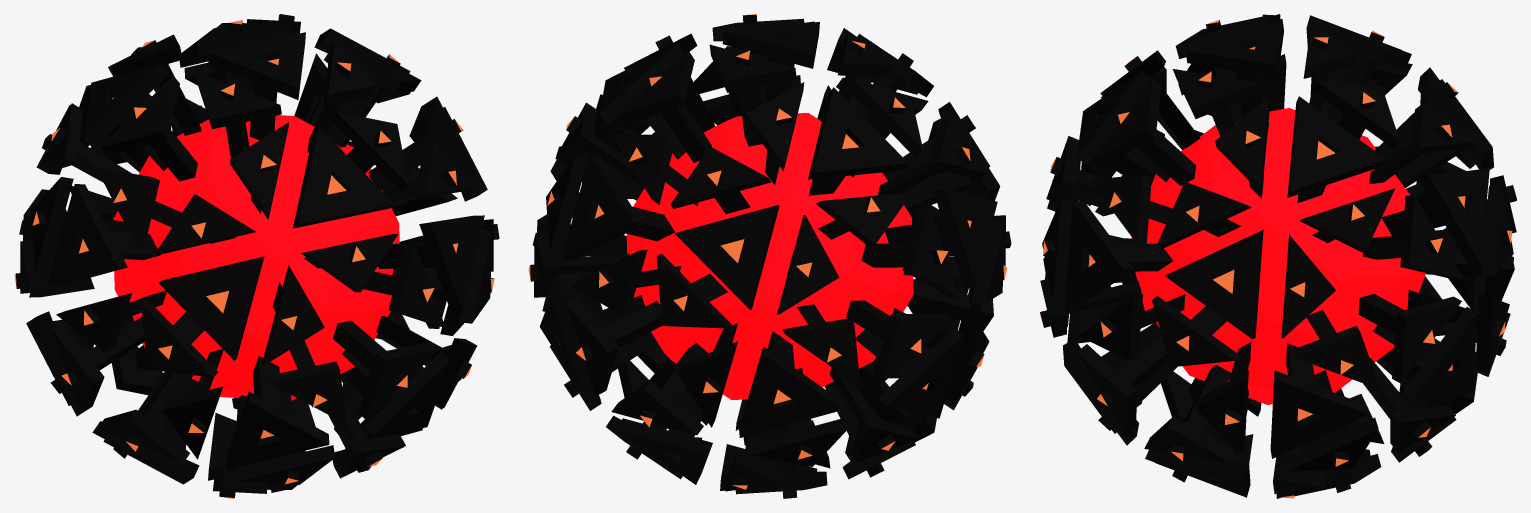
File: engine_corebroken.glb
3 views of the same model, side by side, from view 1: azimuth 30°, elevation 25°; view 2: azimuth 150°, elevation 25°; view 3: azimuth 270°, elevation 25° (orthographic).
Visible parts, largest first — view 1: Icosphere002, Icosphere002_1, Icosphere002_2; view 2: Icosphere002, Icosphere002_1, Icosphere002_2; view 3: Icosphere002, Icosphere002_1, Icosphere002_2.
Boxes of the visible parts, x1,y1,x2,y2 form: Icosphere002: (16, 14, 499, 497); Icosphere002_1: (113, 115, 399, 400); Icosphere002_2: (14, 20, 494, 498); Icosphere002: (530, 14, 1011, 498); Icosphere002_1: (626, 113, 913, 399); Icosphere002_2: (528, 14, 1007, 489); Icosphere002: (1040, 14, 1516, 498); Icosphere002_1: (1131, 108, 1426, 404); Icosphere002_2: (1040, 20, 1512, 498).
Size of the model in its own units: 0.1352 by 0.1355 by 0.133.
